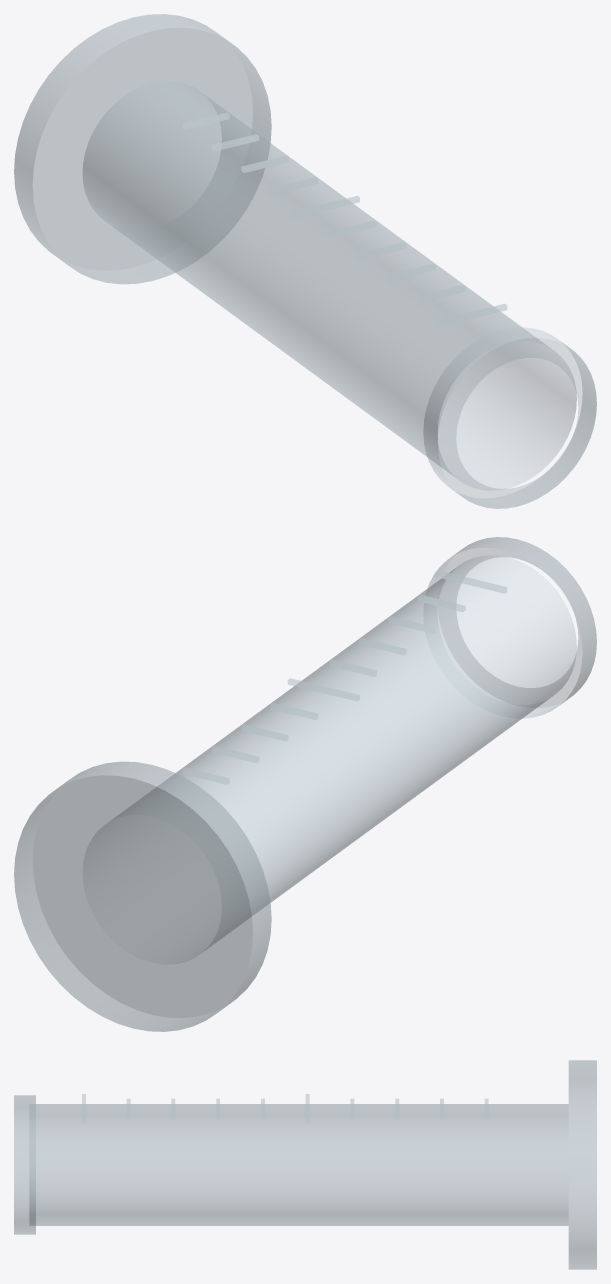
Rendered from modelo.glb.
The picture shows the model from 3 angles, top to bottom: view 1: azimuth 30°, elevation 25°; view 2: azimuth 150°, elevation 25°; view 3: azimuth 270°, elevation 25°; orthographic projection. The views are drawn at different scales.
Visible parts, largest first — view 1: Proveta Graduada; view 2: Proveta Graduada; view 3: Proveta Graduada.
Boxes of the visible parts, left/top/right/bottom form: Proveta Graduada: left=14, top=14, right=596, bottom=508; Proveta Graduada: left=14, top=537, right=596, bottom=1031; Proveta Graduada: left=14, top=1060, right=596, bottom=1269.
Bounding box in the file's own units: 0.0899 × 0.0899 × 0.25.
